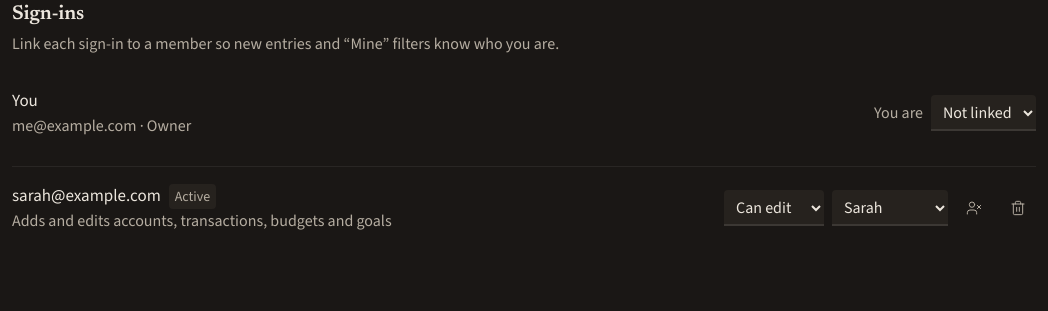
Test case: PeoplePanel › shows why a change was refused
Step 1. Select "View only" in the dropdown named "What sarah@example.com can do" → (774, 208), box [724, 190, 824, 226]
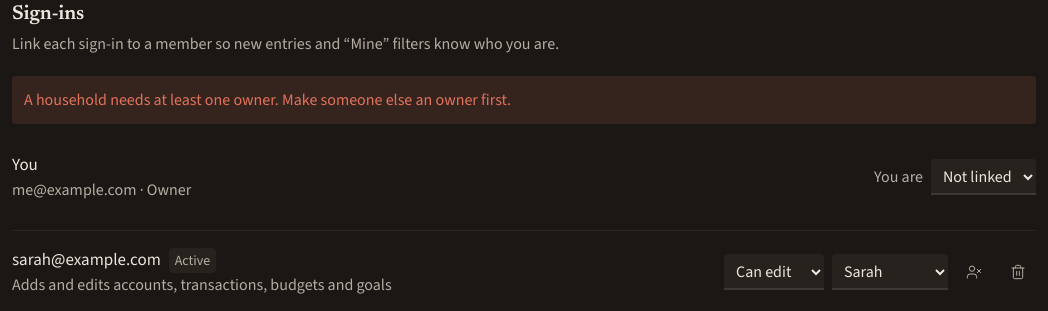
Expected: the message shows "at least one owner", [24, 89, 511, 110]
